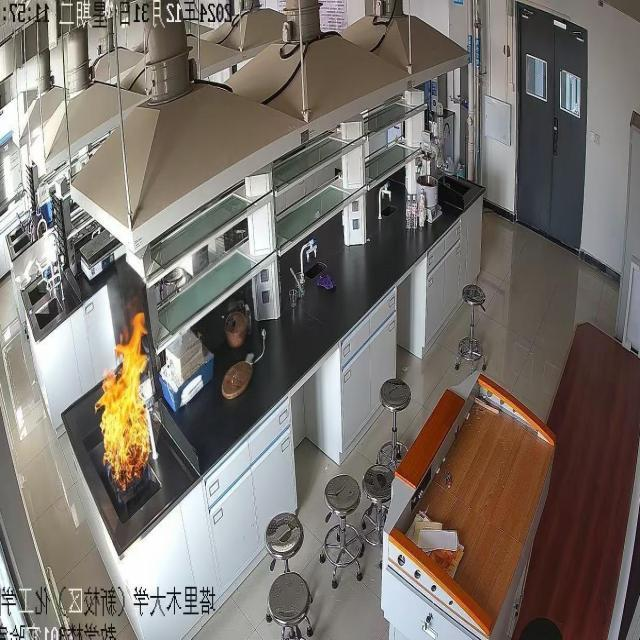smoke: (100, 310, 152, 488)
